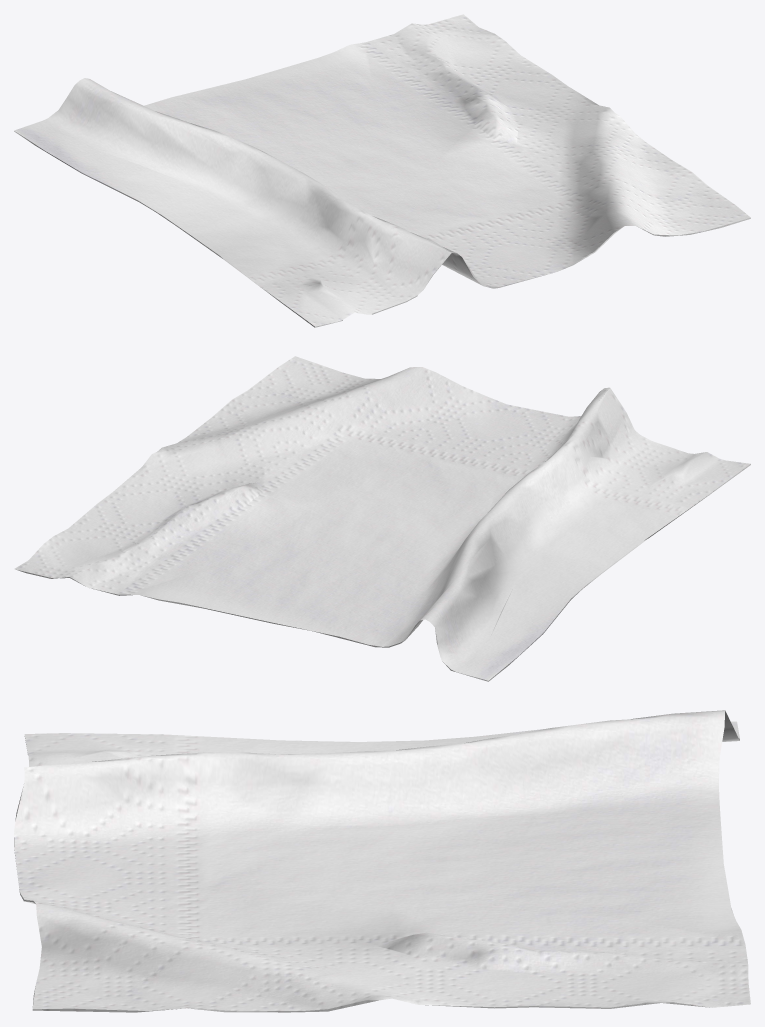
Rendered from Napkin.FBX.
The picture shows the model from 3 angles, top to bottom: view 1: azimuth 30°, elevation 25°; view 2: azimuth 150°, elevation 25°; view 3: azimuth 270°, elevation 25°; orthographic projection. The views are drawn at different scales.
Visible parts, largest first — view 1: Napkin; view 2: Napkin; view 3: Napkin.
Part boxes in pixels (<box>): Napkin: <box>14,14,750,327</box>; Napkin: <box>14,356,750,681</box>; Napkin: <box>14,710,750,1012</box>.
Size of the model in its own units: 21.37 by 2.06 by 22.94.
Materials: 1 (1 with a texture image).
